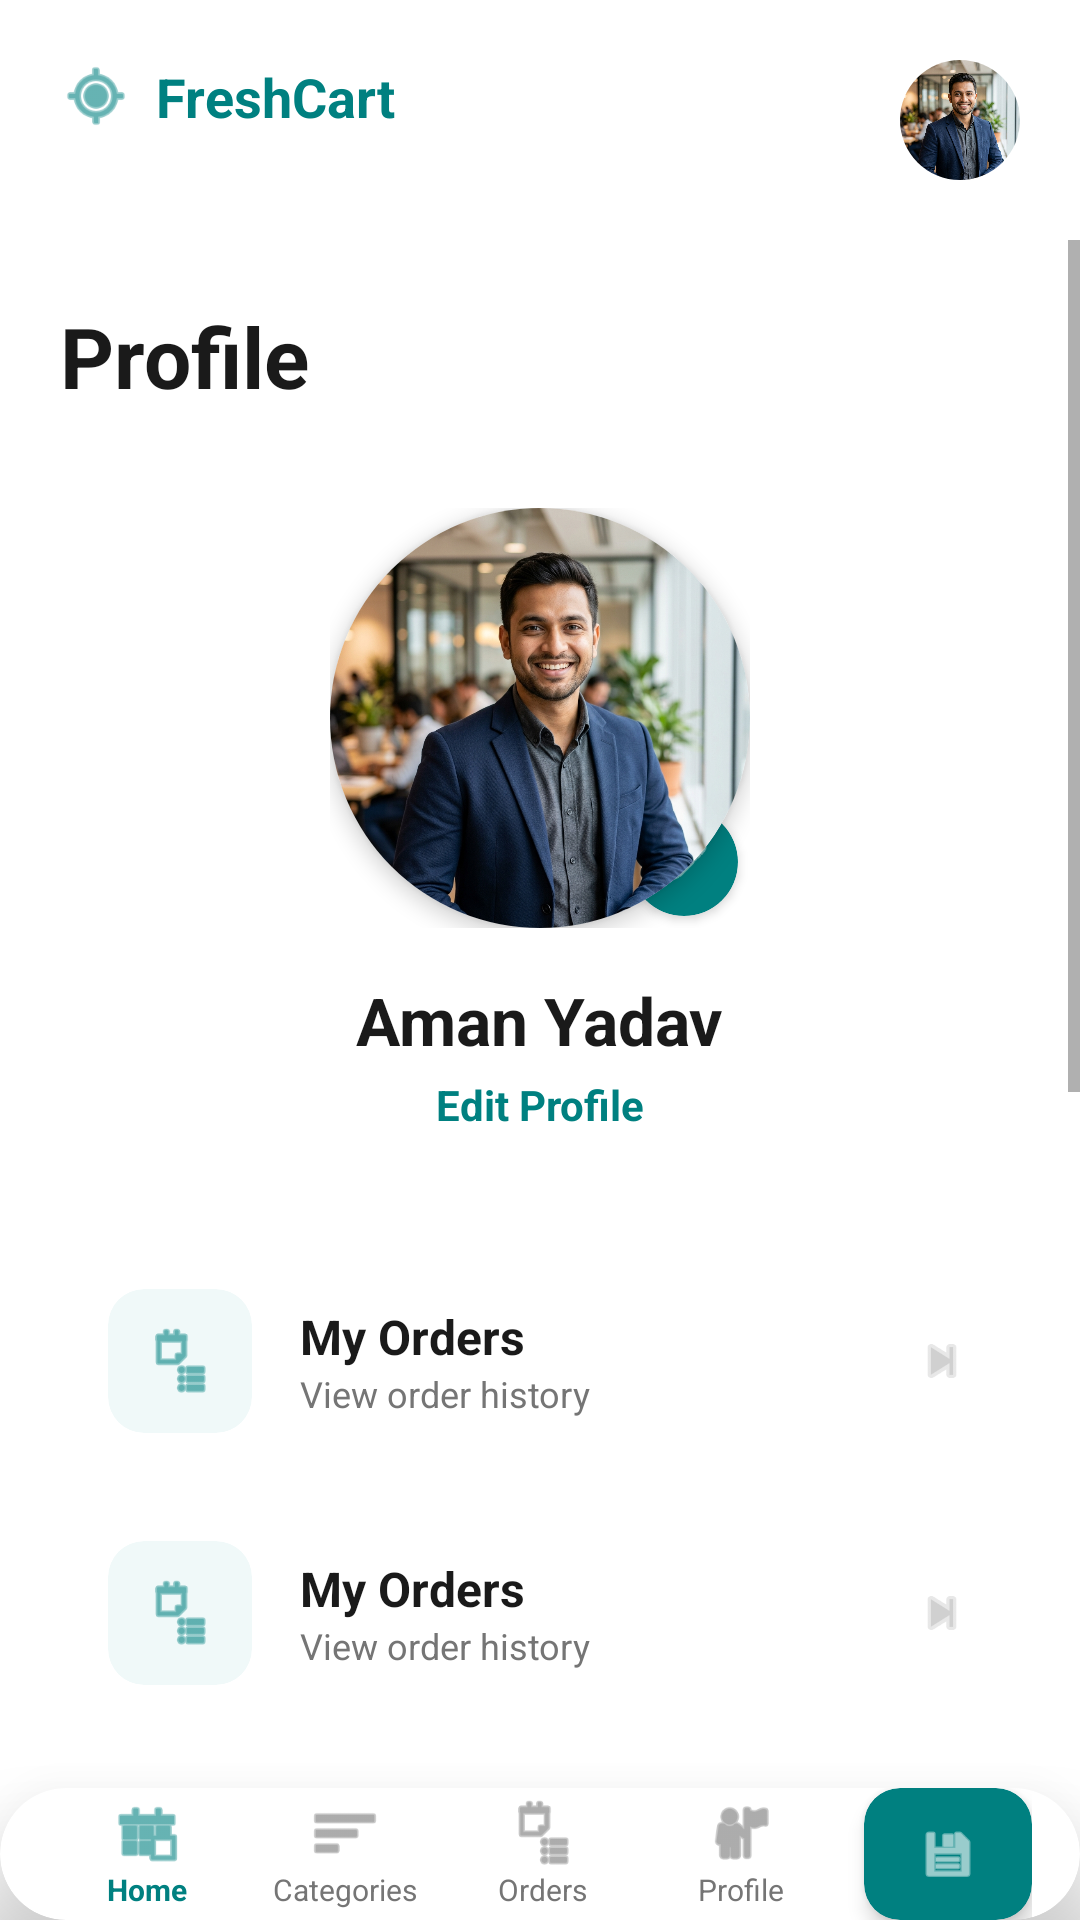

Point at icon controls on the screen. Image size 1080w x 1920h, points as [x,y].
agenda: [180,1361], [180,1613], [543,1833]
mylocation: [96,96]
myplaces: [742,1833]
next: [942,1361], [942,1613]
save: [948,1854]
sort by size: [345,1833]
today: [147,1834]
